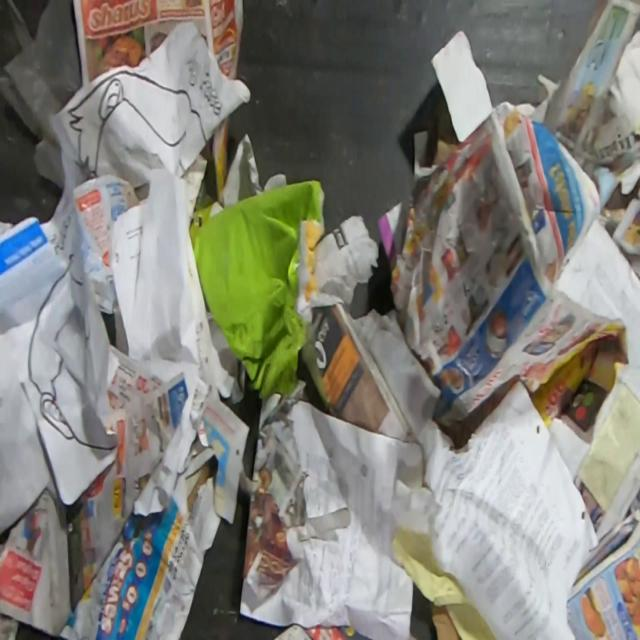cardboard: (193, 178, 325, 404), (189, 182, 224, 250), (430, 602, 461, 640)
soft_plastic: (0, 0, 84, 194)
